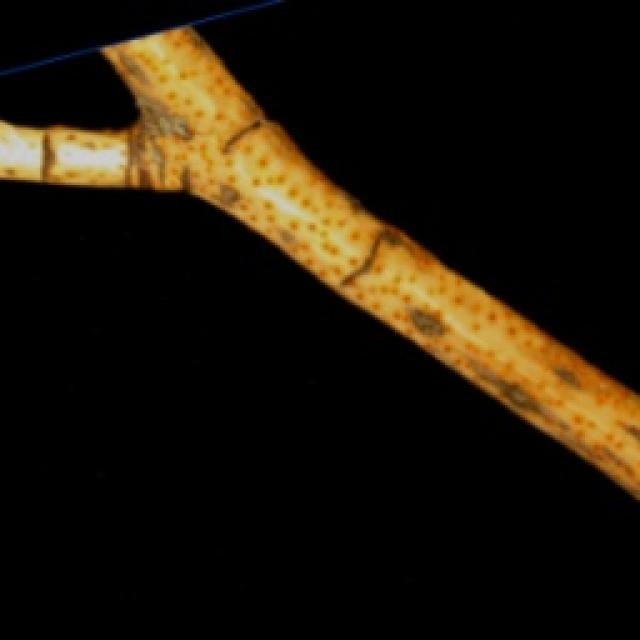Golden_canker: (0, 5, 638, 635)
